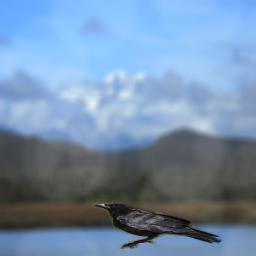Crow: (93, 202, 223, 249)
